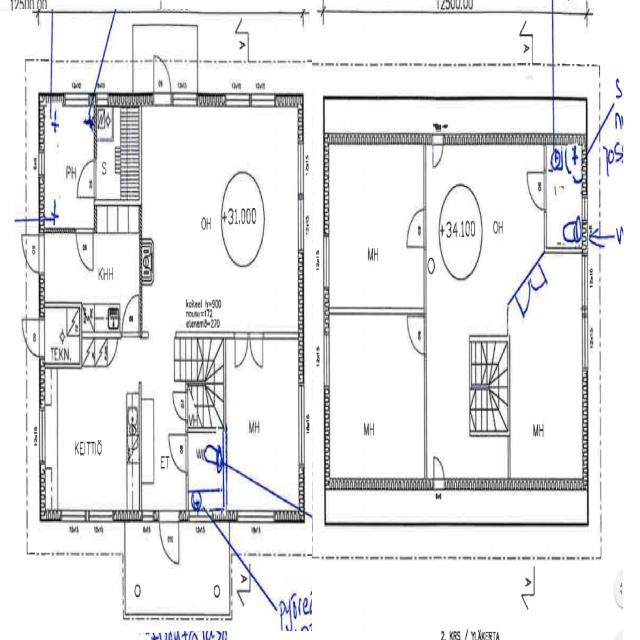door: (526, 260, 548, 308), (159, 510, 178, 564), (515, 278, 536, 326), (23, 234, 46, 271), (23, 319, 46, 356), (154, 56, 170, 106), (526, 172, 546, 209), (77, 160, 96, 197), (408, 317, 427, 354), (408, 209, 427, 246), (169, 436, 188, 472), (122, 297, 138, 339), (77, 227, 93, 268), (234, 332, 249, 370), (249, 332, 263, 370), (434, 451, 446, 489), (433, 132, 444, 168), (174, 393, 188, 419)
